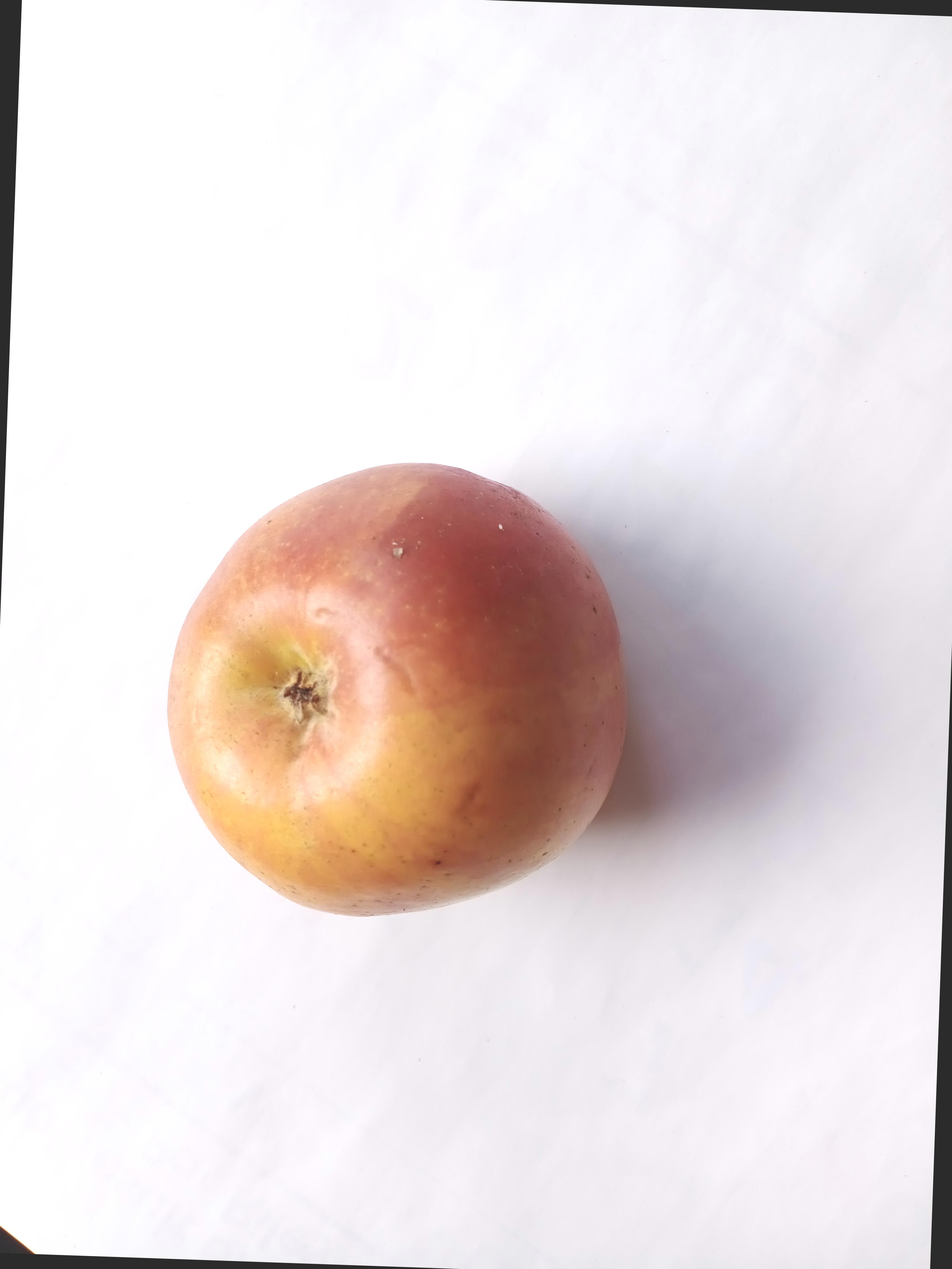Apple Ripe: (140, 384, 705, 956)
